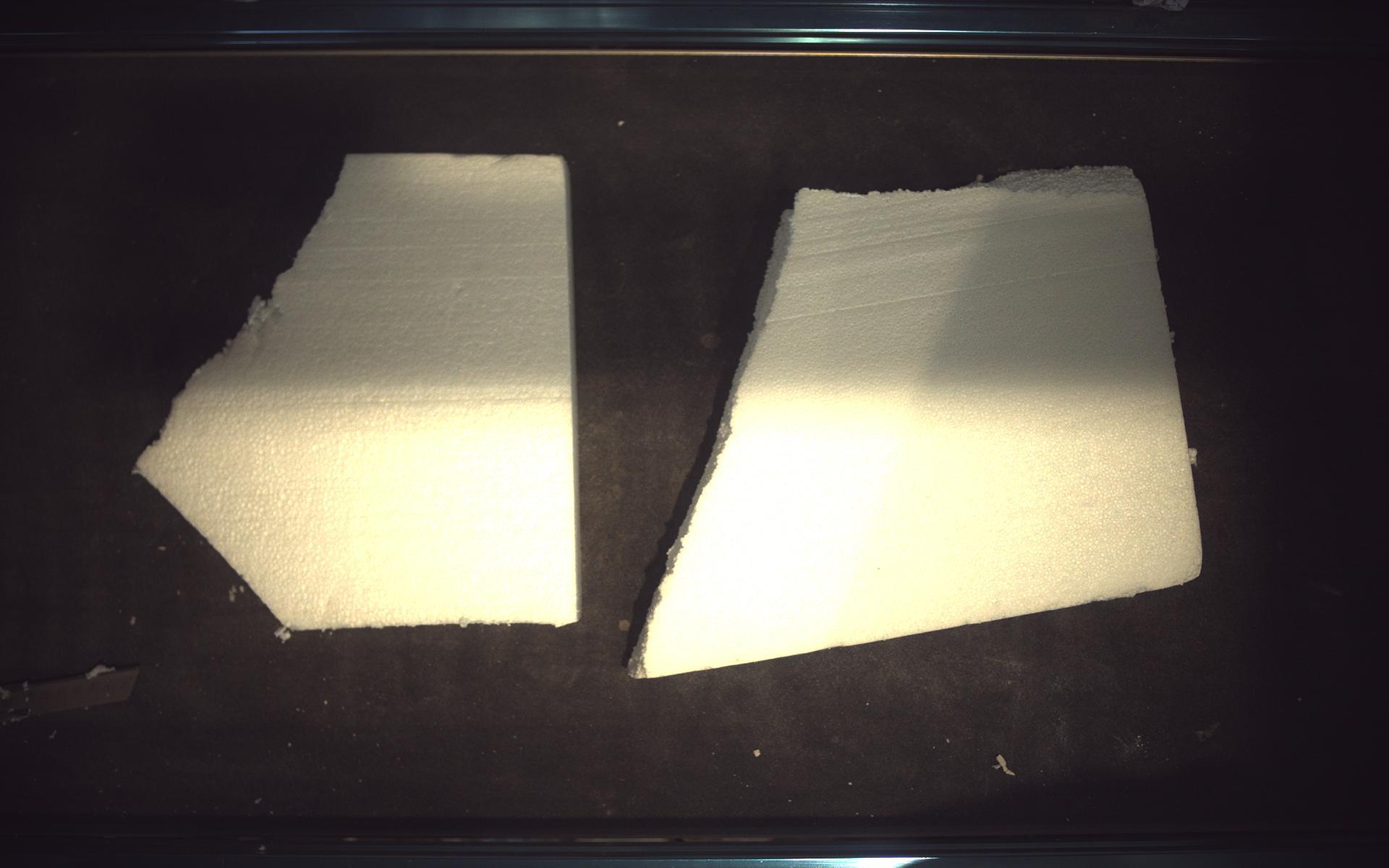foam: (632, 166, 1205, 678), (135, 154, 578, 631)
